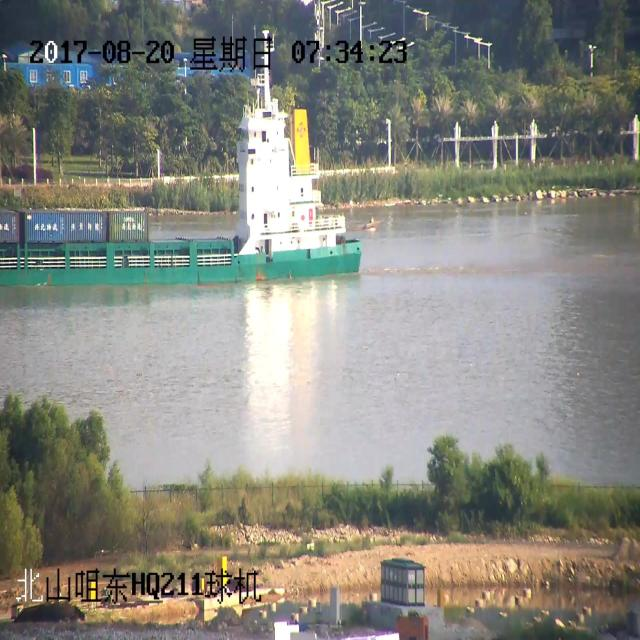cargoship: (13, 91, 379, 273)
